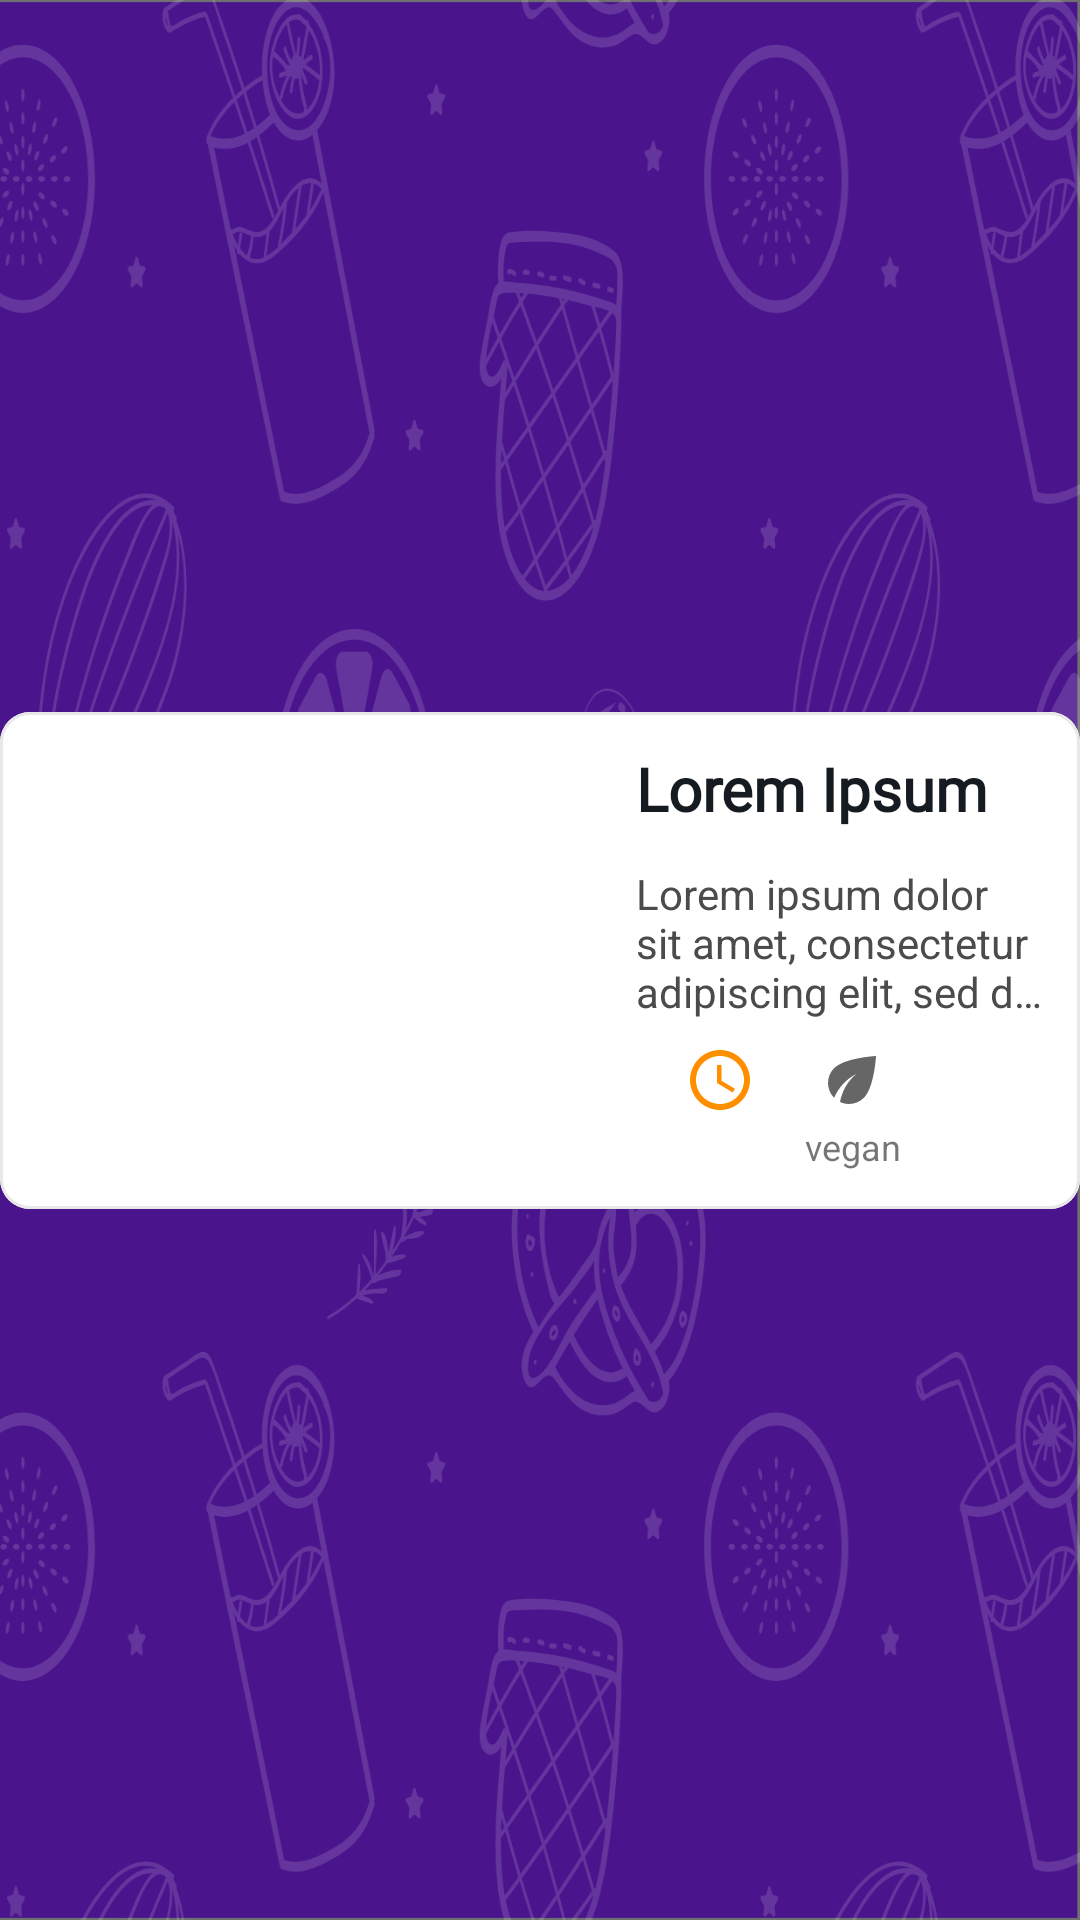

Icons on this 1080*1920 Android screen, each with its box as (x1, y1, x2, y2):
leaf: (828, 1056, 876, 1104)
schedule: (690, 1050, 750, 1110)
